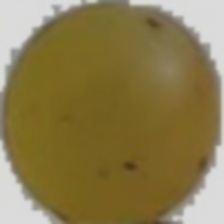grapes: (9, 23, 193, 200)
